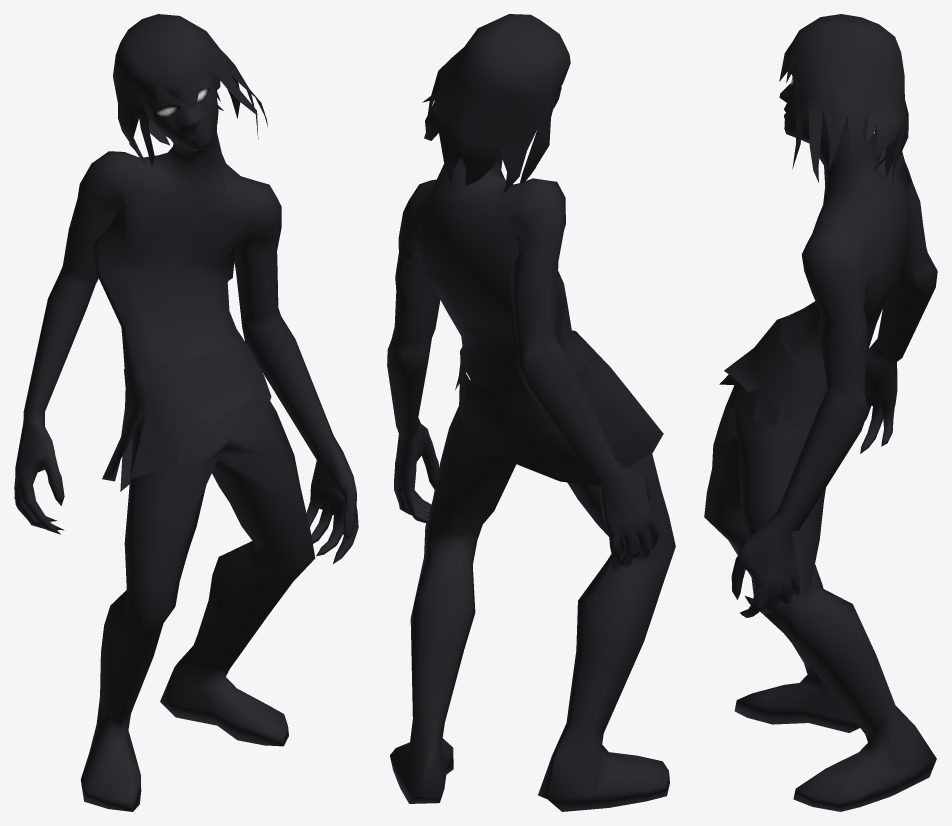
Rendered from 281-wretch.glb.
3 renders of one model, left to right at view 1: azimuth 30°, elevation 25°; view 2: azimuth 150°, elevation 25°; view 3: azimuth 270°, elevation 25°, orthographic. The views are drawn at different scales.
Size of the model in its own units: 0.7675 by 1.84 by 0.5288.
2 materials, 2 textured.
